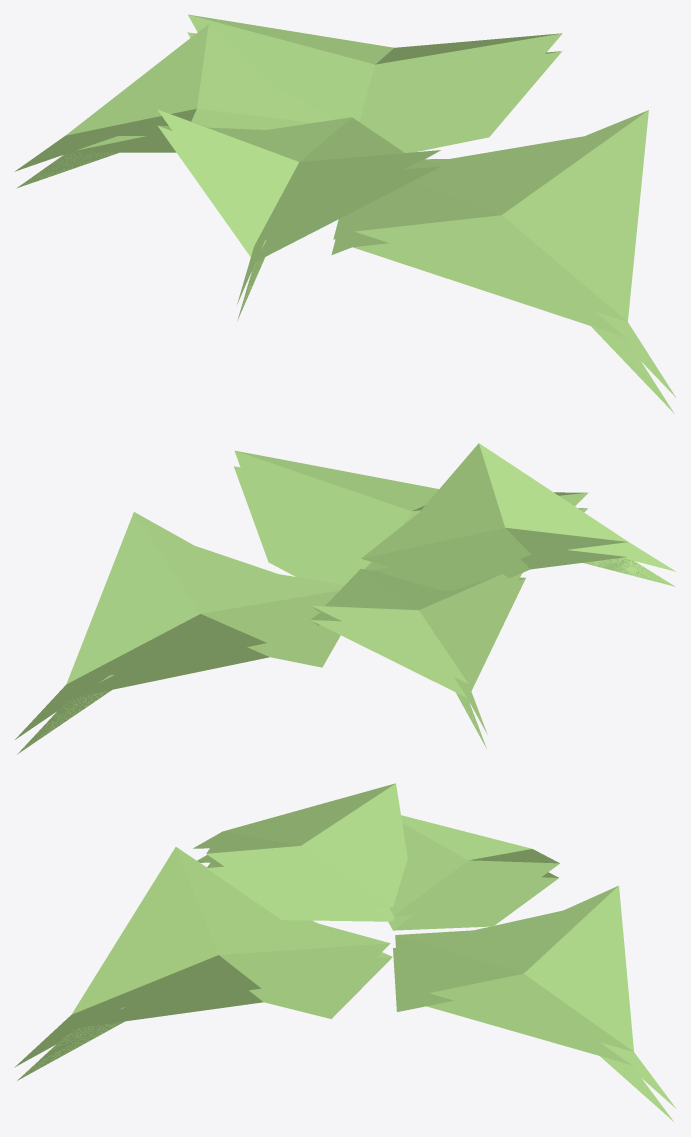
3 renders of one model, top to bottom at view 1: azimuth 30°, elevation 25°; view 2: azimuth 150°, elevation 25°; view 3: azimuth 270°, elevation 25°, orthographic. The views are drawn at different scales.
Parts seen in each view (by area): view 1: 基叶; view 2: 基叶; view 3: 基叶.
Boxes of the visible parts, <box> form: 基叶: <box>15,14,675,413</box>; 基叶: <box>15,443,675,754</box>; 基叶: <box>14,783,675,1121</box>.
Bounding box in the file's own units: 0.2364 × 0.1011 × 0.3413.
